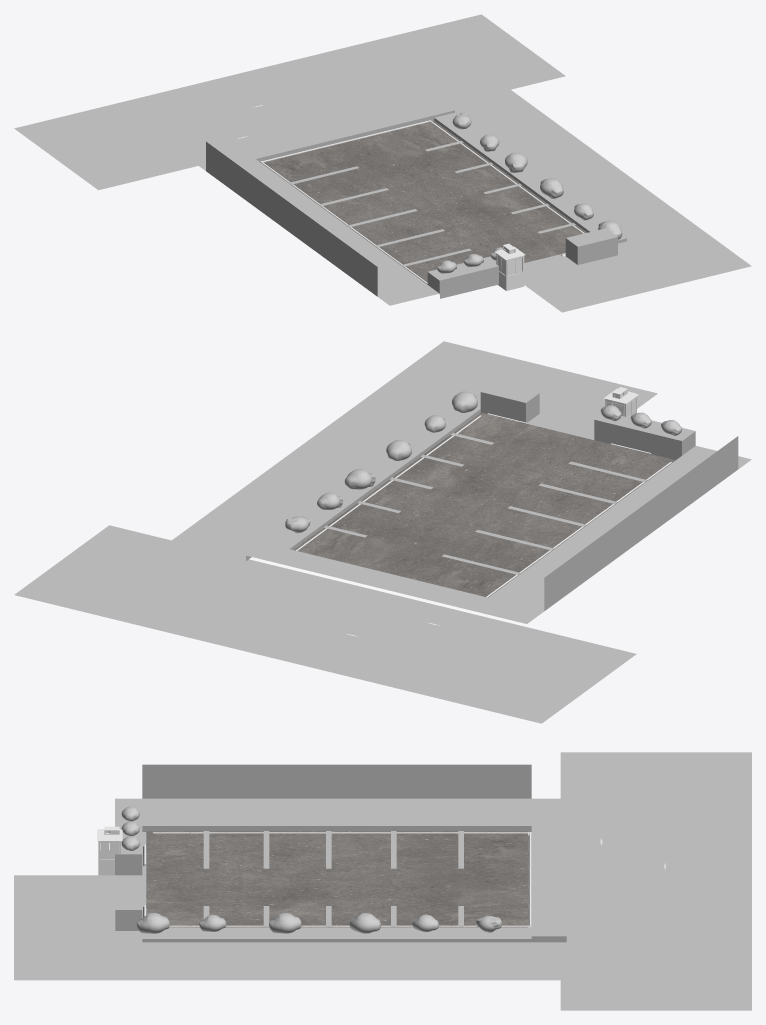
The model's file is Parking1.glb.
3 views of the same model, one above another, from view 1: azimuth 30°, elevation 25°; view 2: azimuth 150°, elevation 25°; view 3: azimuth 270°, elevation 25° (orthographic). The views are drawn at different scales.
Visible parts, largest first — view 1: Plane, Plane.001, Base; view 2: Plane, Plane.001, Base; view 3: Plane, Plane.001, Base.
Part boxes in pixels (<box>): Plane: <box>14,14,751,312</box>; Plane.001: <box>261,121,586,284</box>; Base: <box>260,120,584,290</box>; Plane: <box>14,341,751,723</box>; Plane.001: <box>293,412,675,597</box>; Base: <box>296,387,671,597</box>; Plane: <box>14,752,751,1010</box>; Plane.001: <box>146,831,527,927</box>; Base: <box>97,826,531,927</box>.
Size of the model in its own units: 157 by 12.12 by 190.
Materials: 7 (3 with a texture image).
